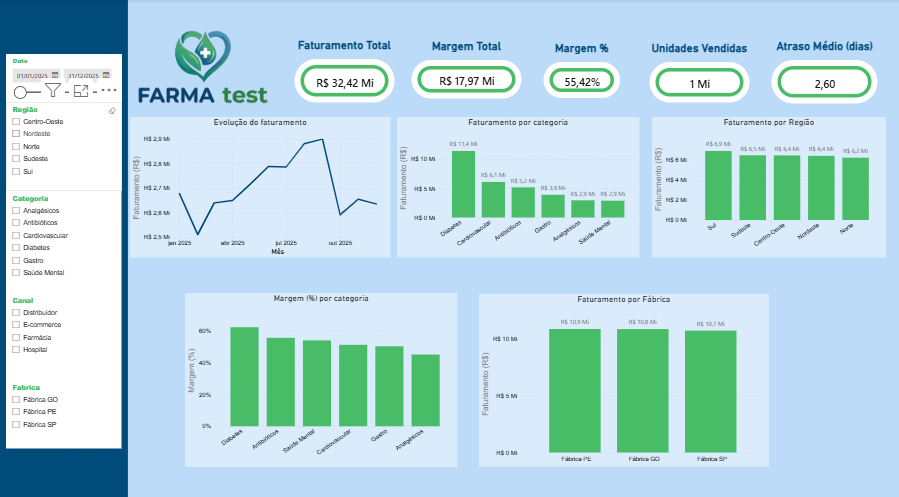

The page's visual inventory and layout, read from the dashboard file:
{"tool":"powerbi","page":{"name":"Visão Executiva","canvas":[1800,1000],"ordinal":0},"visuals":[{"type":"shape","box":[0,0,258,1000],"z":0},{"type":"cardVisual","title":"Faturamento Total","fields":{"Data":["ABC_Produtos.Faturamento Total"]},"box":[586,78,210,134],"z":1000},{"type":"cardVisual","title":"Margem Total","fields":{"Data":["ABC_Produtos.Margem Total"]},"box":[820,80,230,124],"z":2000},{"type":"cardVisual","title":"Margem %","fields":{"Data":["ABC_Produtos.Margem %"]},"box":[1084,84,163,119],"z":3000},{"type":"cardVisual","title":"Unidades Vendidas","fields":{"Data":["ABC_Produtos.Quantidade Vendida"]},"box":[1296,84,210,128],"z":4000},{"type":"cardVisual","title":"Atraso Médio (dias)","fields":{"Data":["ABC_Produtos.Atraso Médio"]},"box":[1540,80,222,134],"z":5000},{"type":"lineChart","title":"Evolução do faturamento","fields":{"Y":["ABC_Produtos.Faturamento Total"],"Category":["Farmaceutica.Data.Variation.Hierarquia de datas.Ano","Farmaceutica.Data.Variation.Hierarquia de datas.Mês"]},"box":[261,235,521,281],"z":6000},{"type":"clusteredColumnChart","title":"Faturamento por categoria","fields":{"Category":["Farmaceutica.Categoria"],"Y":["ABC_Produtos.Faturamento Total"]},"box":[796,235,485,281],"z":7000},{"type":"clusteredColumnChart","title":"Faturamento por Região","fields":{"Y":["ABC_Produtos.Faturamento Total"],"Category":["Farmaceutica.Regiao"]},"box":[1306,236,468,281],"z":8000},{"type":"clusteredColumnChart","title":"Margem (%) por categoria","fields":{"Category":["Farmaceutica.Categoria"],"Y":["ABC_Produtos.Margem %"]},"box":[372.5,587.5,545,347.5],"z":9000},{"type":"clusteredColumnChart","title":"Faturamento por Fábrica","fields":{"Y":["ABC_Produtos.Faturamento Total"],"Category":["Farmaceutica.Fabrica"]},"box":[960,590,580,345],"z":10000},{"type":"slicer","fields":{"Values":["Farmaceutica.Data"]},"box":[14,110,231,95],"z":11000},{"type":"slicer","fields":{"Values":["Farmaceutica.Regiao"]},"box":[14,206,232,178],"z":12000},{"type":"slicer","fields":{"Values":["Farmaceutica.Fabrica"]},"box":[14,762,231,137],"z":13000},{"type":"slicer","fields":{"Values":["Farmaceutica.Canal"]},"box":[14,588,231,174],"z":14000},{"type":"slicer","fields":{"Values":["Farmaceutica.Categoria"]},"box":[14,384,231,204],"z":15000},{"type":"image","box":[258,46,292,169],"z":16000}]}

Visuals, with their boxes on the page's 1800x1000 design canvas (x1, y1, x2, y2). These are canvas units, not pixel positions in the 899x497 screenshot, which may show the page scaled, cropped or inside an application window:
shape: box=[0, 0, 258, 1000]
"Faturamento Total" cardVisual: box=[586, 78, 796, 212]
"Margem Total" cardVisual: box=[820, 80, 1050, 204]
"Margem %" cardVisual: box=[1084, 84, 1247, 203]
"Unidades Vendidas" cardVisual: box=[1296, 84, 1506, 212]
"Atraso Médio (dias)" cardVisual: box=[1540, 80, 1762, 214]
"Evolução do faturamento" lineChart: box=[261, 235, 782, 516]
"Faturamento por categoria" clusteredColumnChart: box=[796, 235, 1281, 516]
"Faturamento por Região" clusteredColumnChart: box=[1306, 236, 1774, 517]
"Margem (%) por categoria" clusteredColumnChart: box=[372, 588, 918, 935]
"Faturamento por Fábrica" clusteredColumnChart: box=[960, 590, 1540, 935]
slicer - Farmaceutica.Data: box=[14, 110, 245, 205]
slicer - Farmaceutica.Regiao: box=[14, 206, 246, 384]
slicer - Farmaceutica.Fabrica: box=[14, 762, 245, 899]
slicer - Farmaceutica.Canal: box=[14, 588, 245, 762]
slicer - Farmaceutica.Categoria: box=[14, 384, 245, 588]
image: box=[258, 46, 550, 215]
